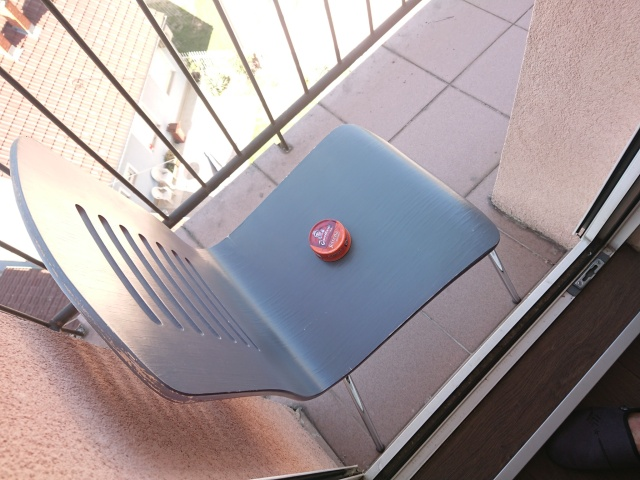Gavrilovic Pork Liver Pate 100g: (306, 217, 353, 263)
